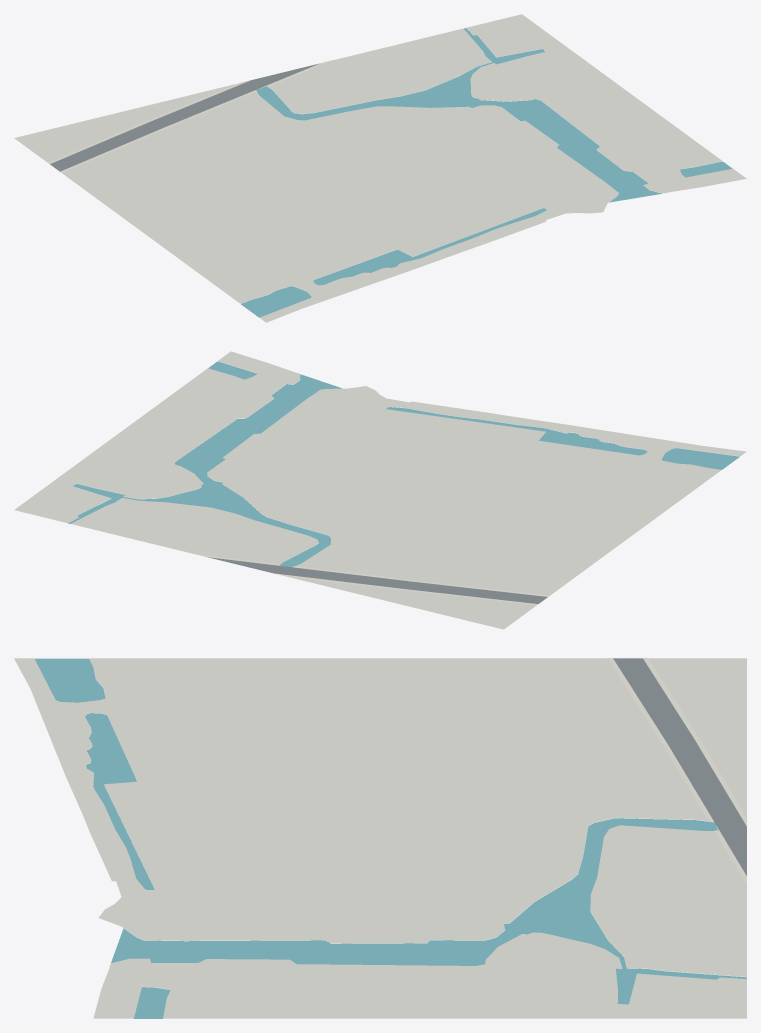
3 views of the same model, one above another, from view 1: azimuth 30°, elevation 25°; view 2: azimuth 150°, elevation 25°; view 3: azimuth 270°, elevation 25° (orthographic). The views are drawn at different scales.
Parts seen in each view (by area): view 1: city; view 2: city; view 3: city.
Boxes of the visible parts, x1,y1,x2,y2 form: city: [14, 14, 746, 322]; city: [14, 351, 746, 629]; city: [14, 658, 746, 1018].
Size of the model in its own units: 500 by 0.4 by 430.
